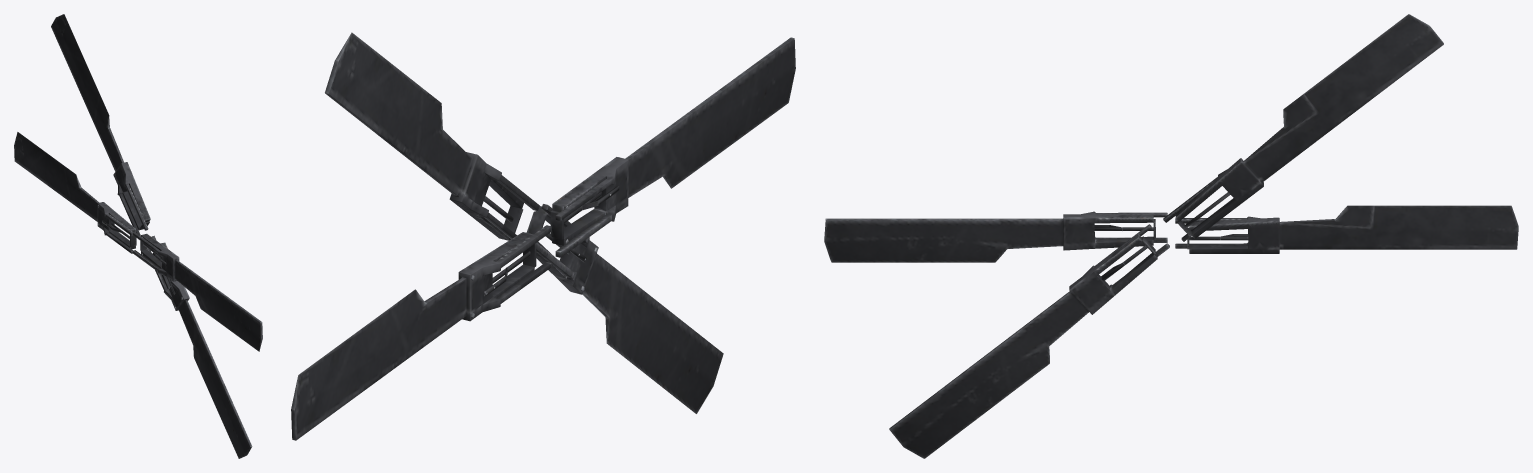
Rendered from TailRotor.fbx.
The picture shows the model from 3 angles, left to right: view 1: azimuth 30°, elevation 25°; view 2: azimuth 150°, elevation 25°; view 3: azimuth 270°, elevation 25°; orthographic projection. The views are drawn at different scales.
Parts seen in each view (by area): view 1: R2; view 2: R2; view 3: R2.
Boxes of the visible parts, x1=… form: R2: x1=14, y1=14, x2=262, y2=458; R2: x1=291, y1=32, x2=795, y2=440; R2: x1=824, y1=14, x2=1518, y2=458.
Bounding box in the file's own units: 7.7 × 103 × 146.
